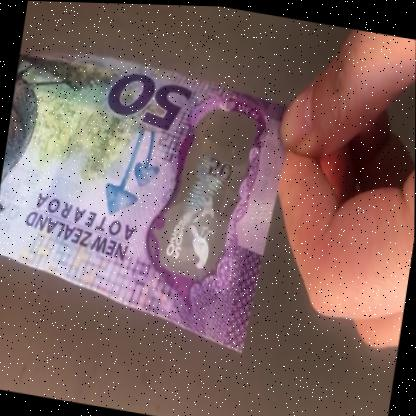50B: (164, 117, 251, 276)
